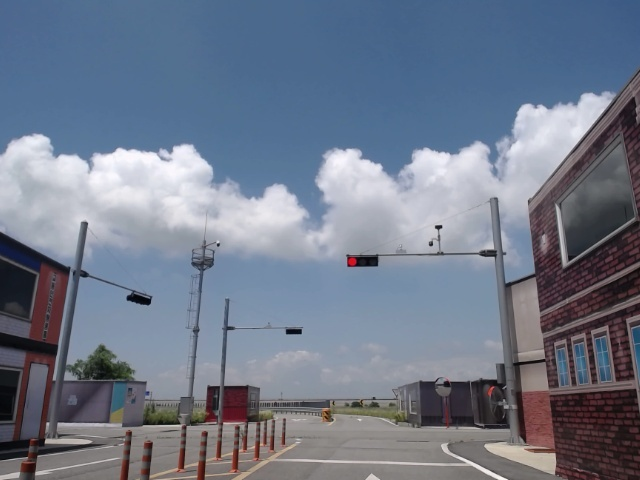red_3: (346, 254, 379, 268)
